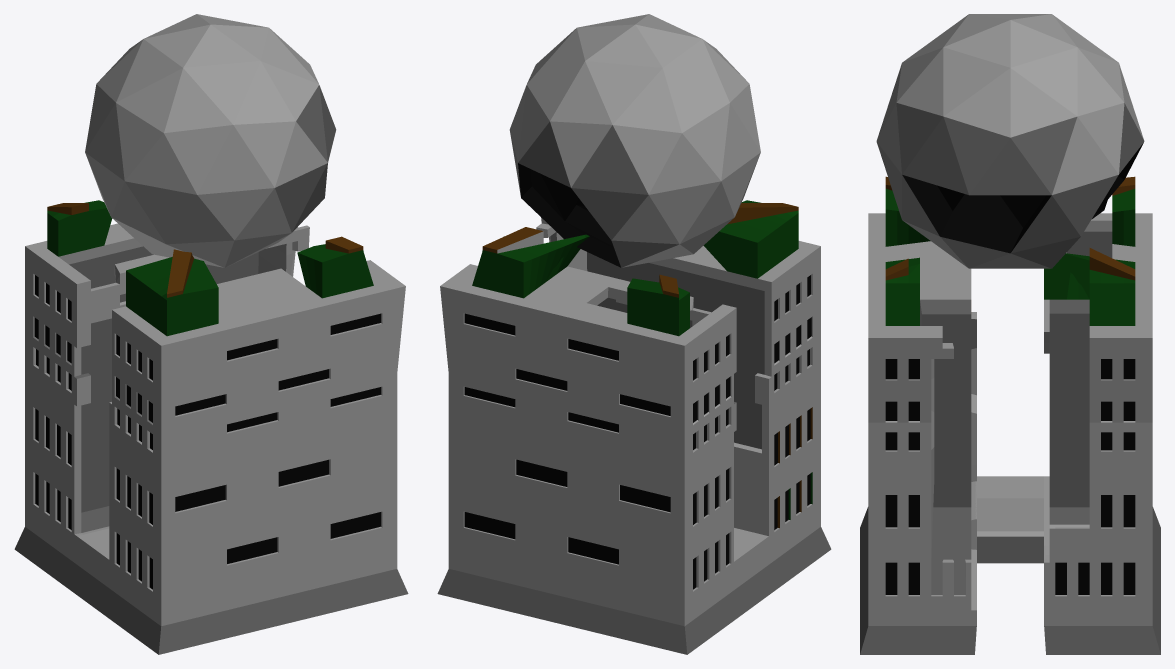
The model's file is brokeTarget.fbx.
3 views of the same model, side by side, from view 1: azimuth 30°, elevation 25°; view 2: azimuth 150°, elevation 25°; view 3: azimuth 270°, elevation 25° (orthographic). The views are drawn at different scales.
Visible parts, largest first — view 1: Cube; view 2: Cube; view 3: Cube.
Boxes of the visible parts, x1=… form: Cube: x1=14, y1=14, x2=408, y2=654; Cube: x1=437, y1=14, x2=831, y2=654; Cube: x1=860, y1=14, x2=1160, y2=654.
Size of the model in its own units: 602 by 1253 by 598.
Materials: 1 (1 with a texture image).
